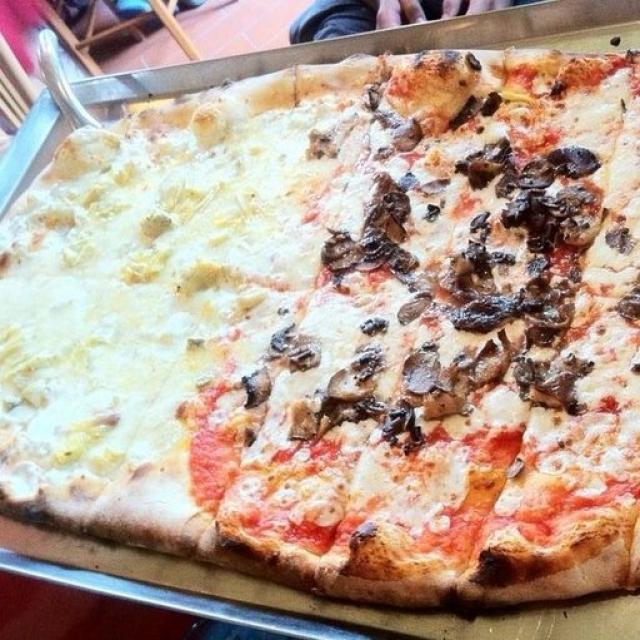Cheese: (18, 209, 185, 492), (112, 127, 296, 249)
Mushrooms: (462, 148, 572, 416), (298, 360, 439, 455), (324, 175, 421, 276), (572, 147, 600, 241), (267, 327, 321, 373), (452, 92, 501, 125), (380, 114, 424, 150), (402, 294, 434, 324), (245, 372, 270, 408), (620, 275, 640, 319), (602, 226, 634, 253), (358, 316, 393, 336), (367, 75, 382, 108), (509, 456, 526, 482)
Pizza: (0, 49, 640, 619)
